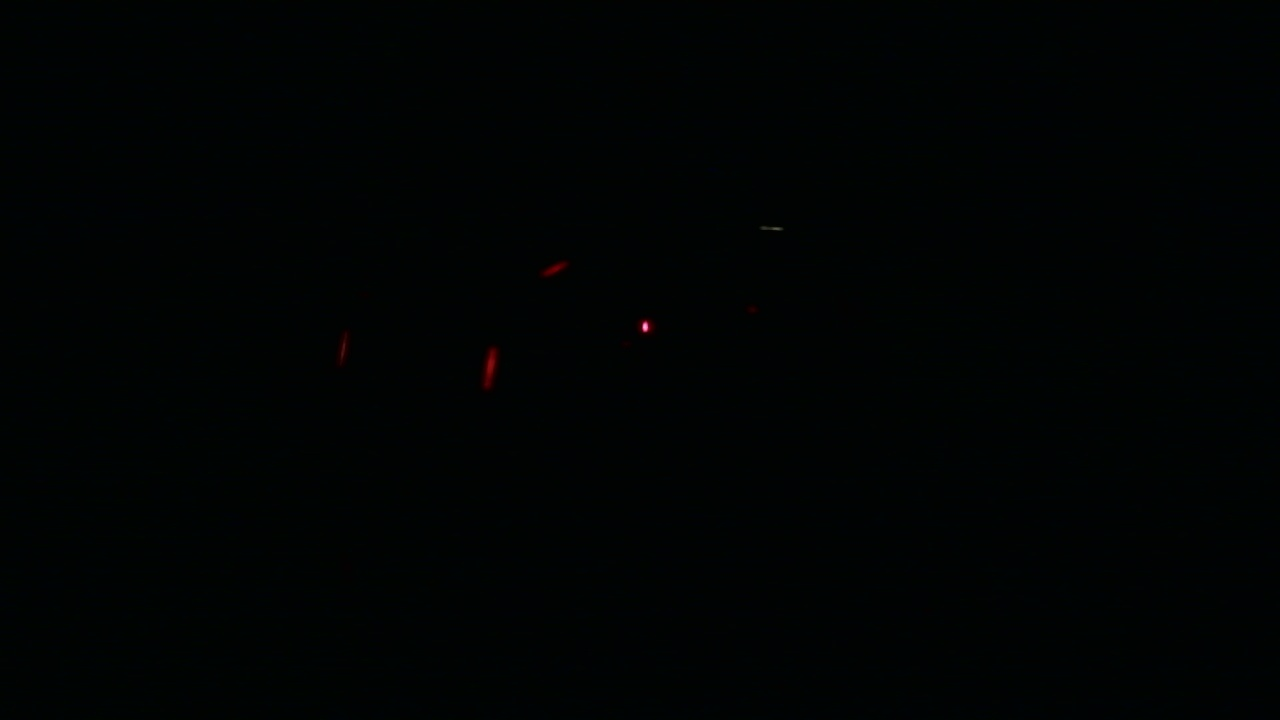lamp: (482, 329, 494, 388), (335, 326, 343, 390)
pair2: (336, 329, 498, 390)
